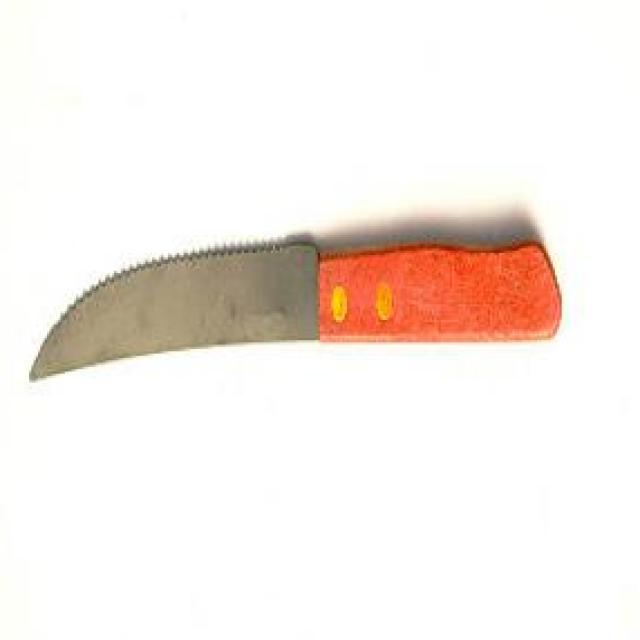knife: (3, 190, 564, 410)
